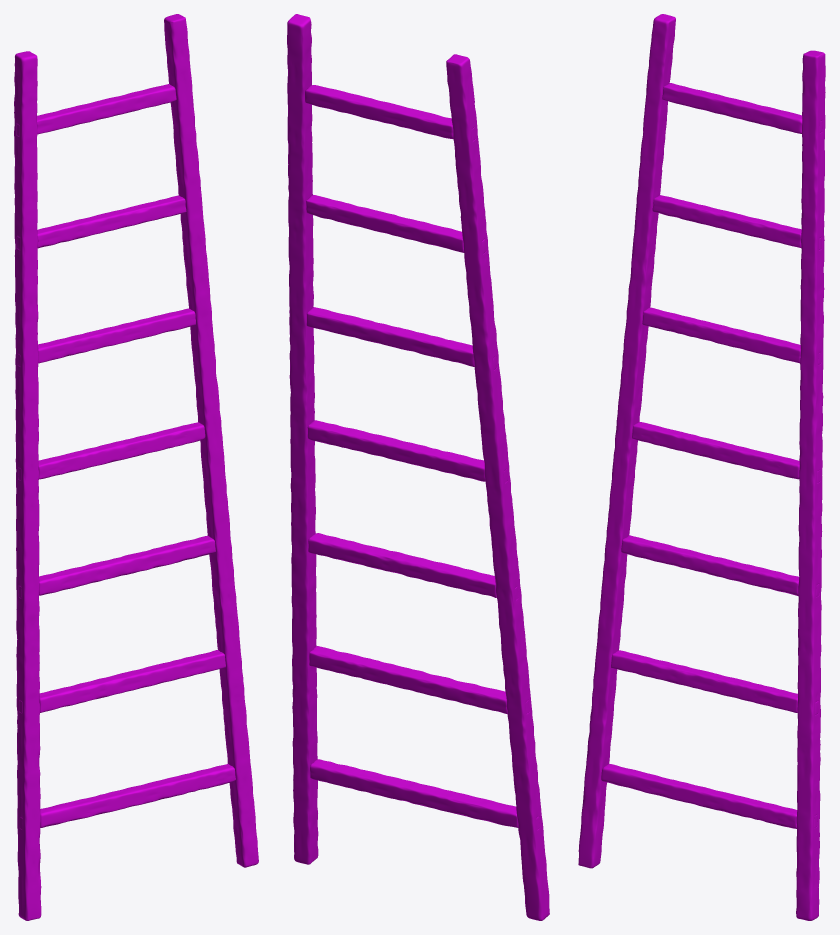
Rendered from A01_LadderLarge_01.fbx.
3 renders of one model, left to right at view 1: azimuth 30°, elevation 25°; view 2: azimuth 150°, elevation 25°; view 3: azimuth 330°, elevation 25°, orthographic. The views are drawn at different scales.
Parts seen in each view (by area): view 1: SM_LadderLarge_01; view 2: SM_LadderLarge_01; view 3: SM_LadderLarge_01.
Part boxes in pixels (x1,y1,x2,y2): SM_LadderLarge_01: [14, 14, 258, 920]; SM_LadderLarge_01: [287, 14, 549, 920]; SM_LadderLarge_01: [578, 14, 825, 920].
Size of the model in its own units: 59.68 by 202 by 21.53.
